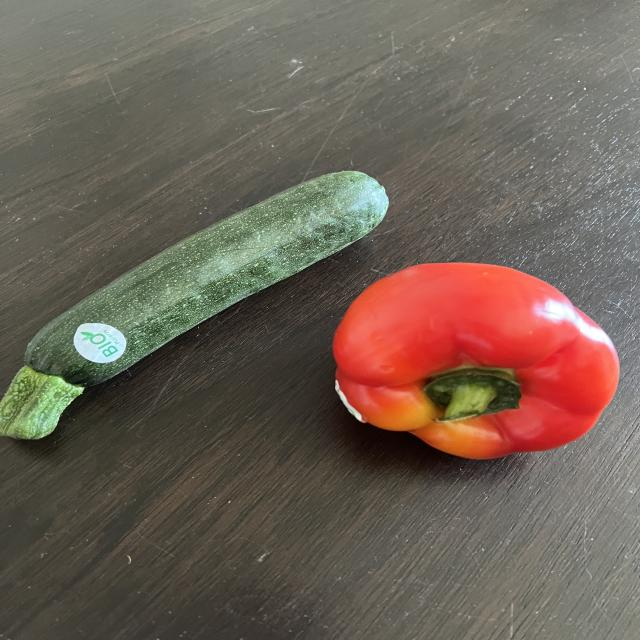bell_pepper: (347, 262, 614, 459)
zucchini: (23, 165, 376, 482)
